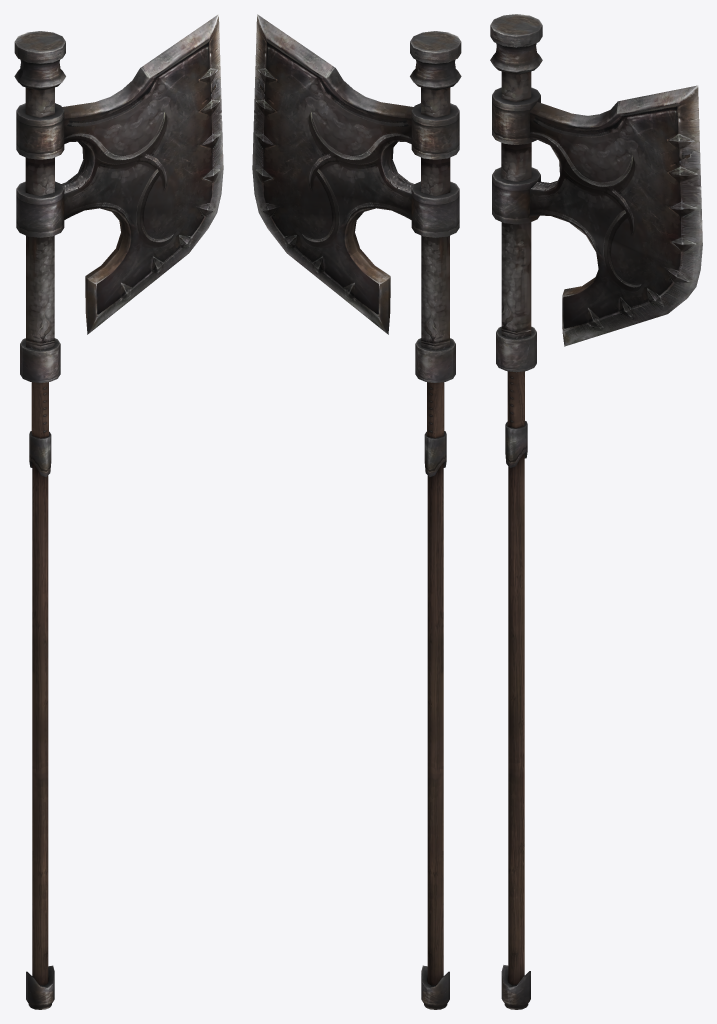
Rendered from Weapon_88.fbx.
3 views of the same model, side by side, from view 1: azimuth 30°, elevation 25°; view 2: azimuth 150°, elevation 25°; view 3: azimuth 330°, elevation 25° (orthographic).
Parts seen in each view (by area): view 1: Weapon_88; view 2: Weapon_88; view 3: Weapon_88.
Part boxes in pixels (left/top/right/bottom): Weapon_88: left=14, top=14, right=223, bottom=1009; Weapon_88: left=252, top=14, right=461, bottom=1009; Weapon_88: left=490, top=14, right=702, bottom=1009.
Size of the model in its own units: 50.74 by 11.08 by 227.
